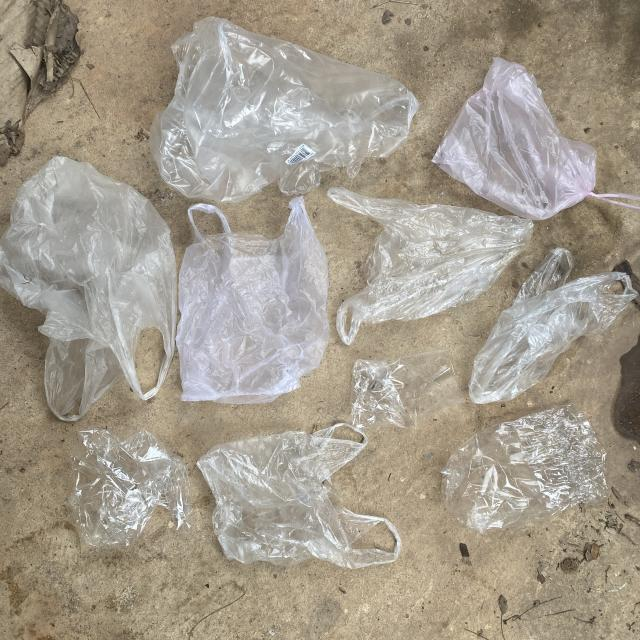Single-layer Plastic: (150, 18, 419, 202), (0, 156, 176, 421), (432, 58, 640, 220), (328, 188, 532, 344), (176, 198, 329, 404), (198, 424, 401, 569), (469, 248, 636, 404), (441, 404, 606, 532), (69, 429, 194, 546), (349, 349, 465, 428)
